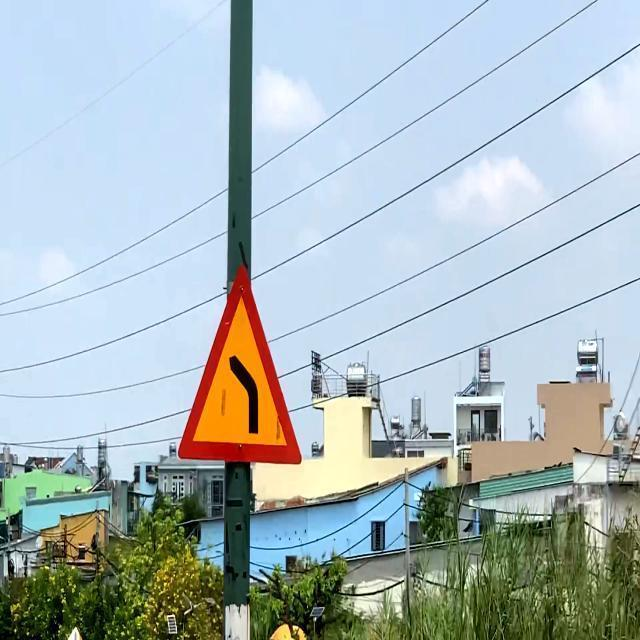201-cho-ngoat-nguy-hiem: (179, 266, 303, 466)
